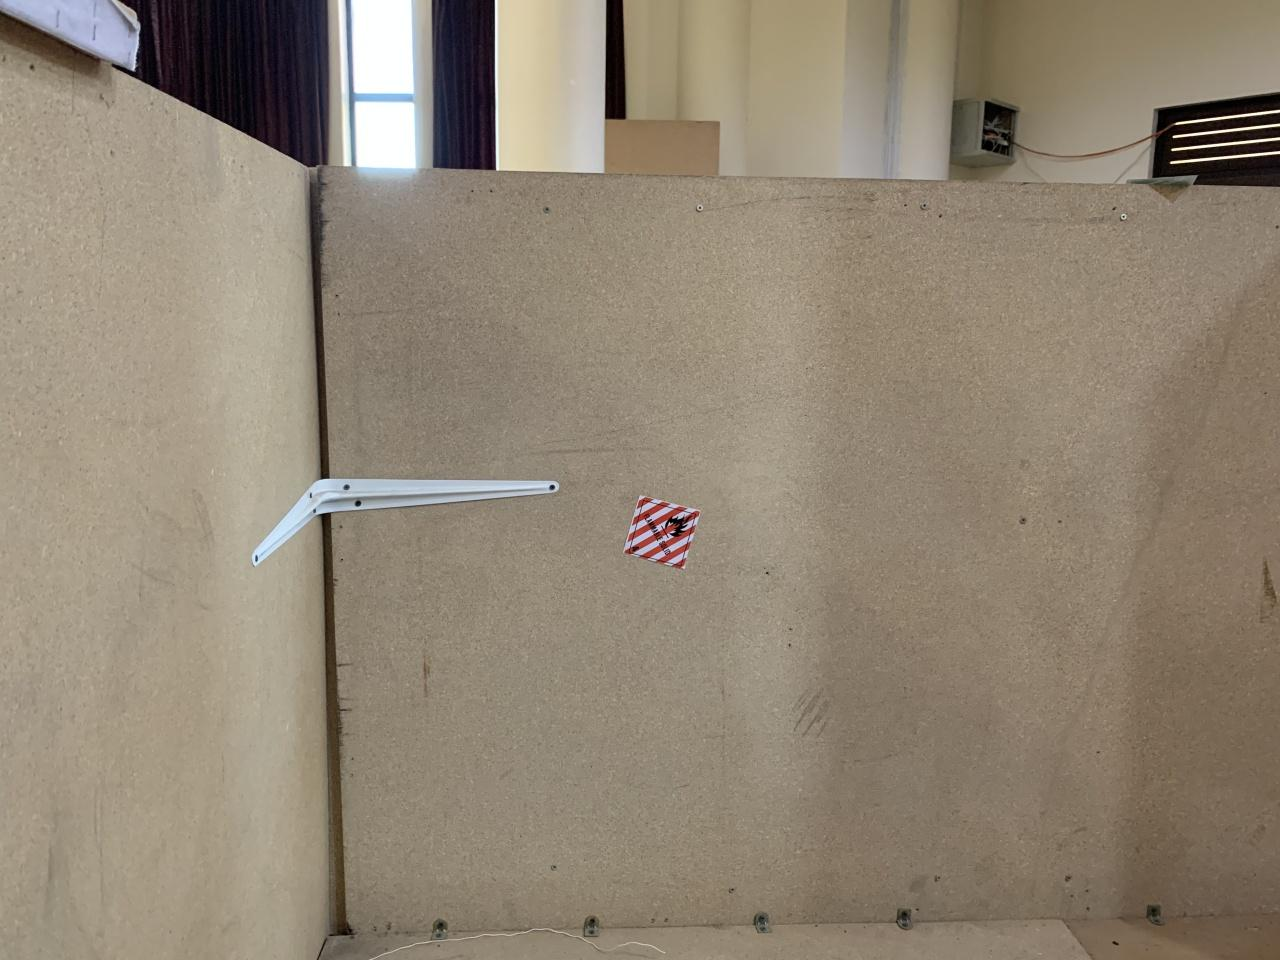flammable-solid: (625, 495, 702, 573)
